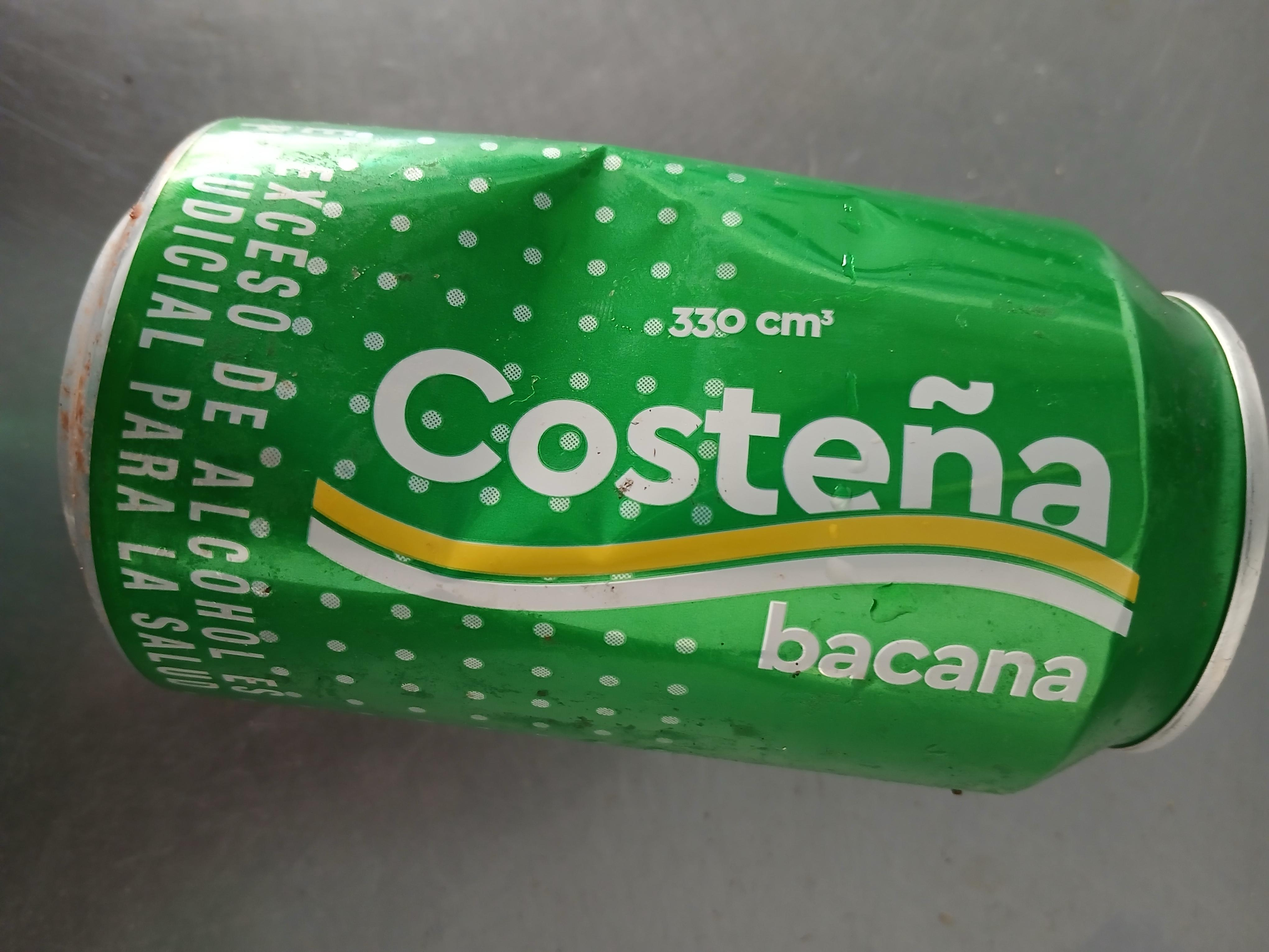Metal: (52, 114, 1260, 797)
